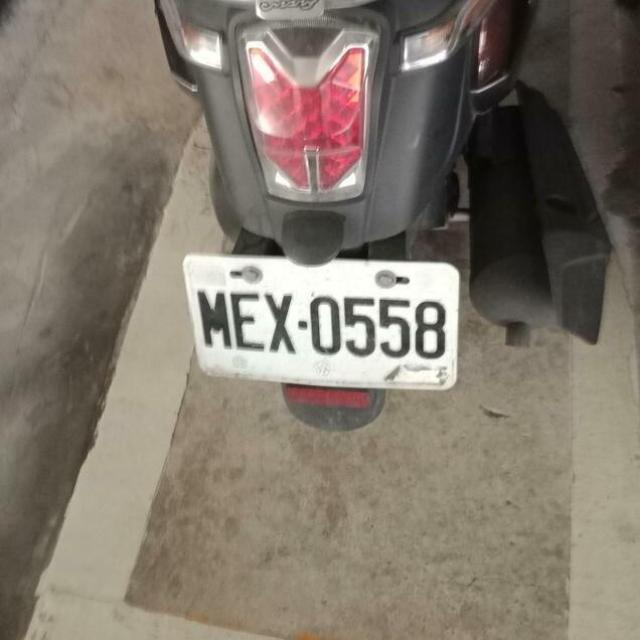W: (174, 242, 465, 394)
